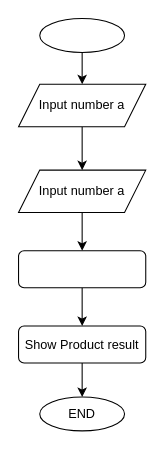
Image size: 164x449. Some labels were removed from this diagram. The shapes that lost their labels are listed below. From the top down, each one's box as (x1, y1, x2, y2) in pixels, then its label:
(39, 17, 125, 52): START
(17, 250, 146, 288): Calculate a x b
